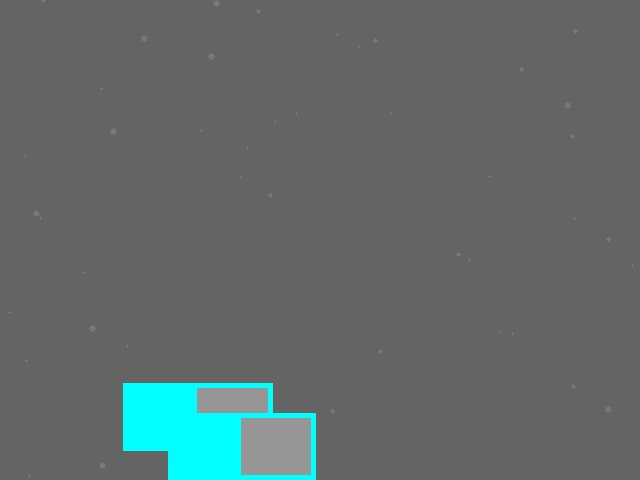truck: (123, 383, 272, 450), (168, 413, 315, 479)
